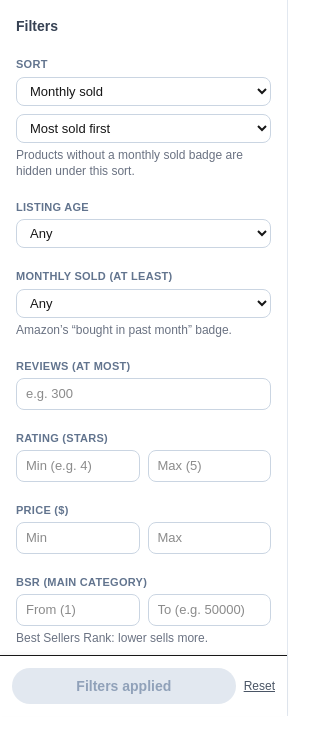
Scenario: sort hint (sorts that hide products without the sort key) › shows under the sort control and follows the pending sort before Apply
expect the text "Products without a monthly sold badge are hidden under this sort." is shown: met, box x1=16 y1=146 x2=271 y2=178
Select "Top-3 keywords" in the dropdown labelled "Sort" at (144, 91), box x1=16 y1=76 x2=271 y2=106
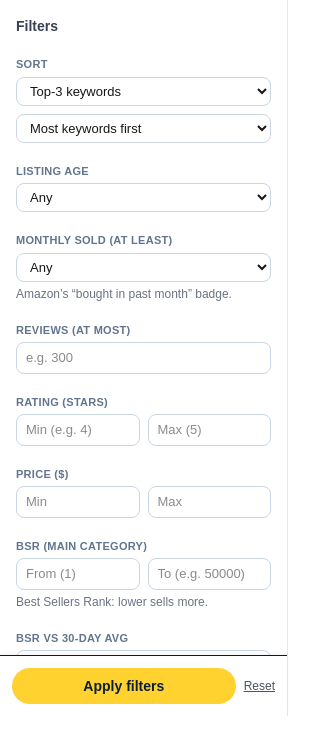
expect the text "hidden under this sort" is gone: met
Select "BSR vs 30-day avg" in the dropdown labelled "Sort" at (144, 91), box x1=16 y1=76 x2=271 y2=106
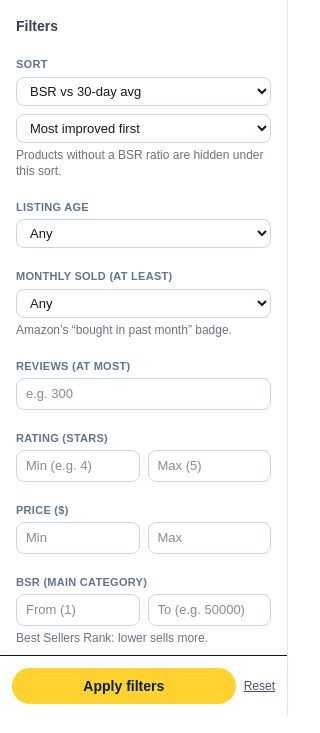
expect the text "Products without a BSR ratio are hidden under this sort." is shown: met, box x1=16 y1=146 x2=271 y2=178
